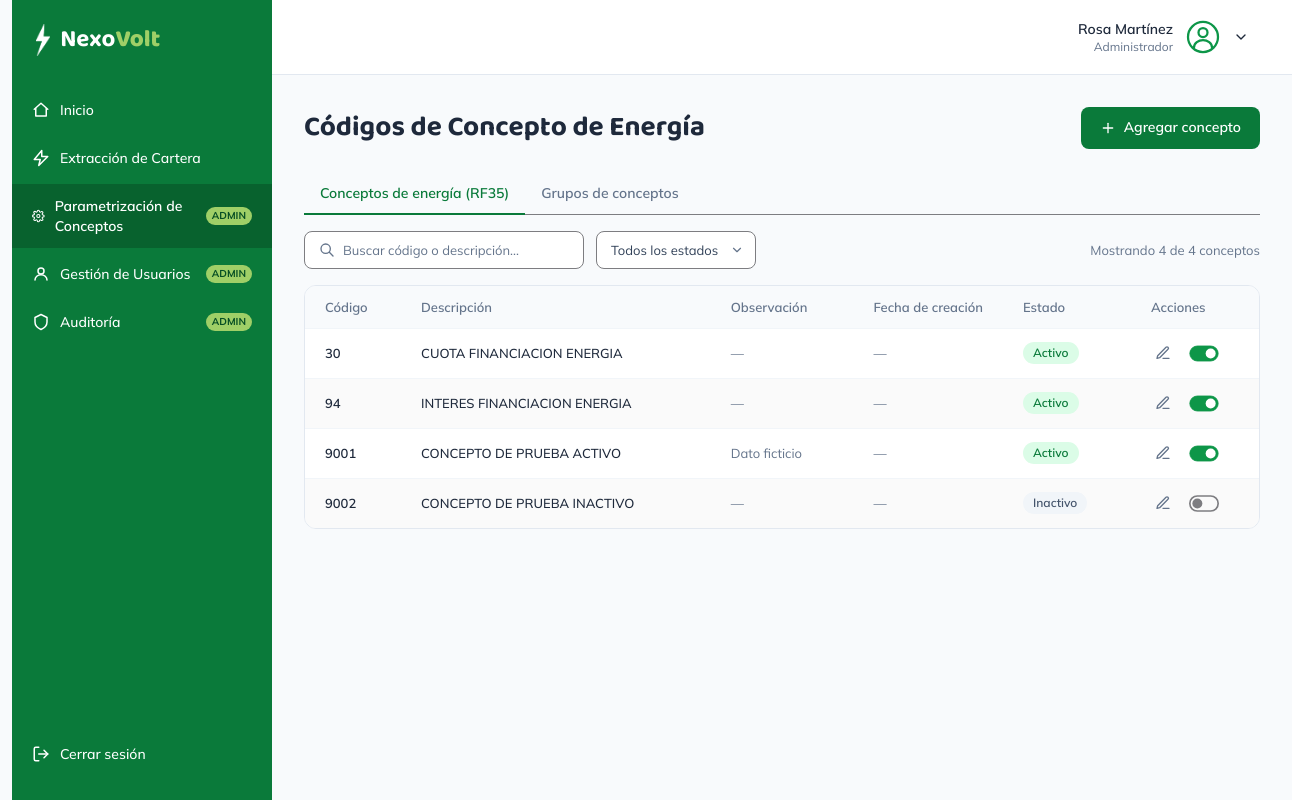
Test: pantalla de parametrización (RF35) › filtro por estado activo e inactivo
Expected: the text "CUOTA FINANCIACION ENERGIA" is shown, [401,328,711,378]
Select "Solo inactivos" in the dropdown named "Filtrar por estado" at (676, 250), box [596,230,756,269]
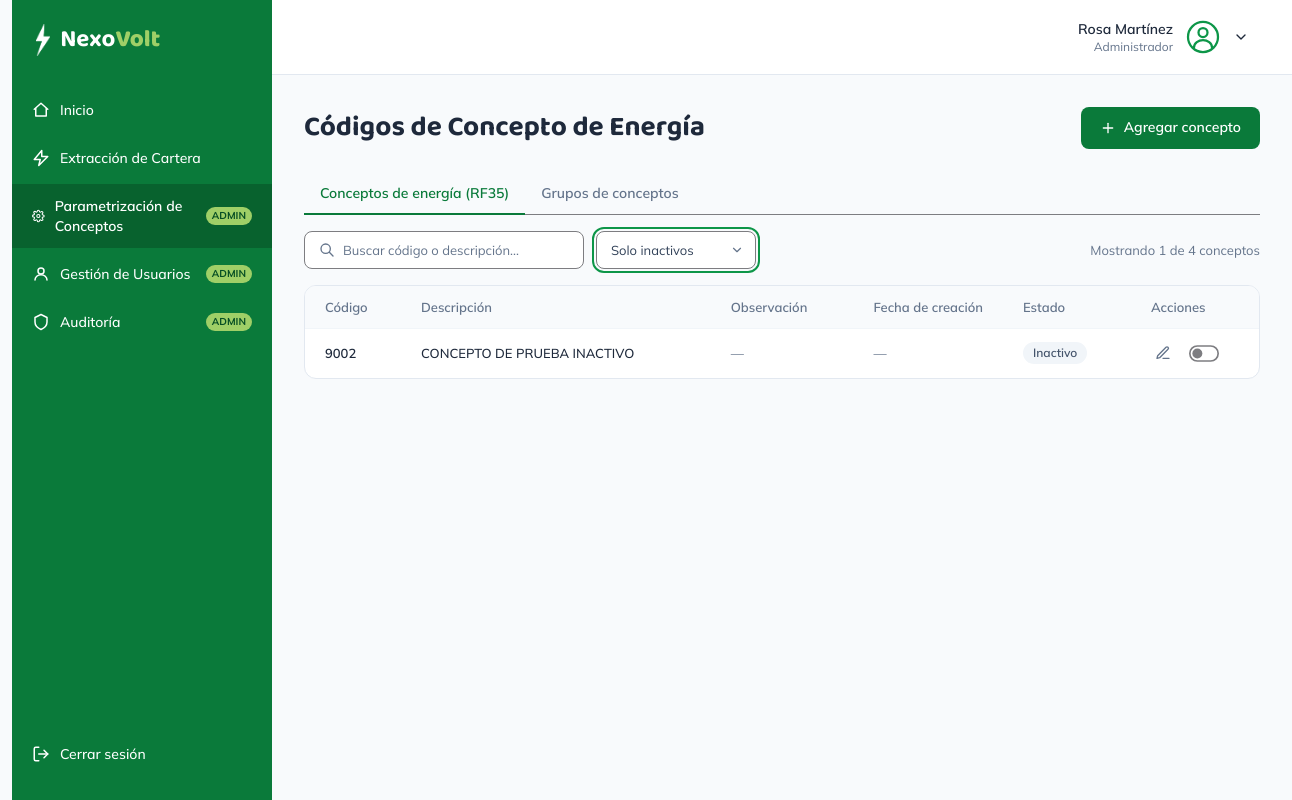
Expected: the text "CONCEPTO DE PRUEBA INACTIVO" is shown, [401,328,711,378]
Now the text "CUOTA FINANCIACION ENERGIA" is gone
Select "Solo activos" in the dropdown named "Filtrar por estado" at (676, 250), box [596,230,756,269]
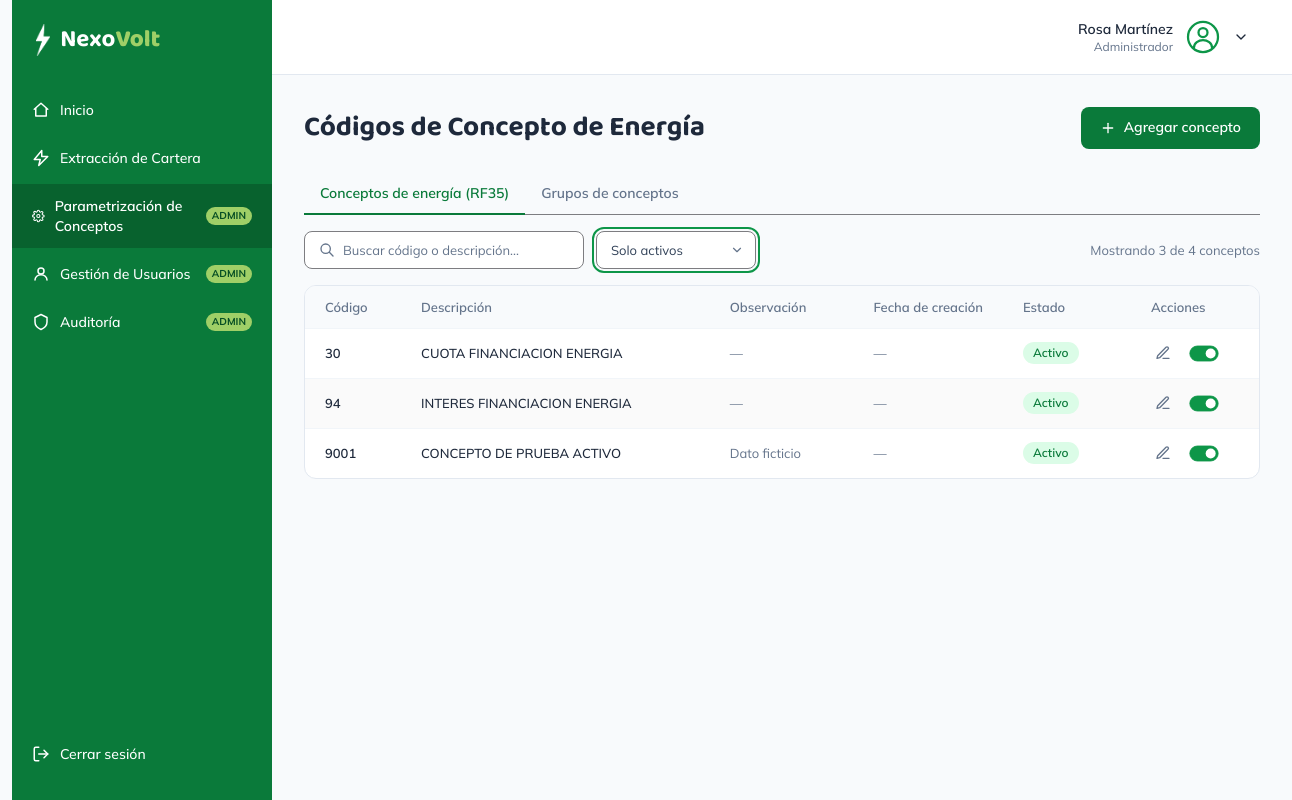
Now the text "CUOTA FINANCIACION ENERGIA" is shown, box [401,328,710,378]
Now the text "CONCEPTO DE PRUEBA INACTIVO" is gone
